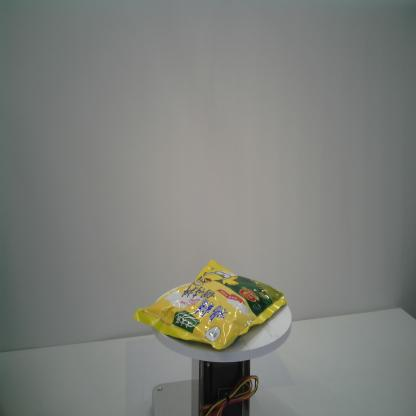Seasoner: (131, 256, 286, 352)
